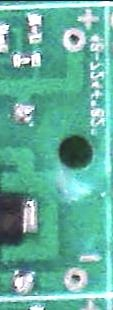chip-resistor: (10, 51, 41, 67), (27, 14, 42, 43), (0, 23, 10, 54)
